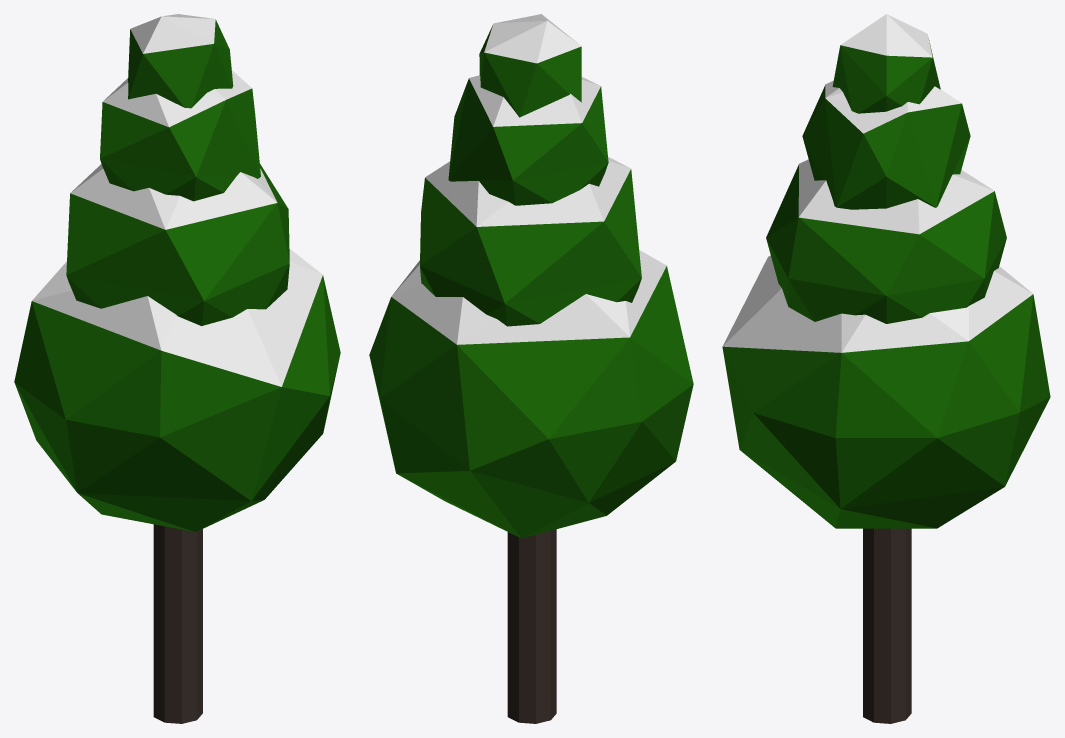
The model's file is Simple_Tree_7_Winter.fbx.
The picture shows the model from 3 angles, left to right: view 1: azimuth 30°, elevation 25°; view 2: azimuth 150°, elevation 25°; view 3: azimuth 270°, elevation 25°; orthographic projection.
Visible parts, largest first — view 1: Simple_Tree_7_Winter; view 2: Simple_Tree_7_Winter; view 3: Simple_Tree_7_Winter.
Boxes of the visible parts, <box> form: Simple_Tree_7_Winter: <box>14,14,340,723</box>; Simple_Tree_7_Winter: <box>369,14,693,723</box>; Simple_Tree_7_Winter: <box>722,14,1050,723</box>.
Bounding box in the file's own units: 307 × 747 × 321.
